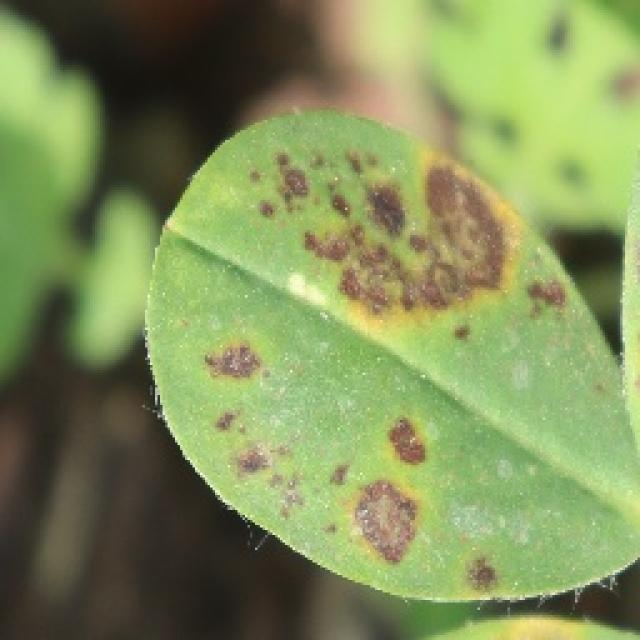Yellowish: (154, 95, 598, 586)
